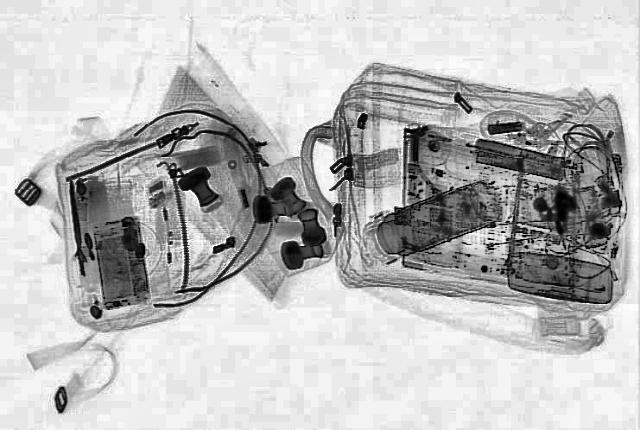Knife: (62, 178, 90, 276)
